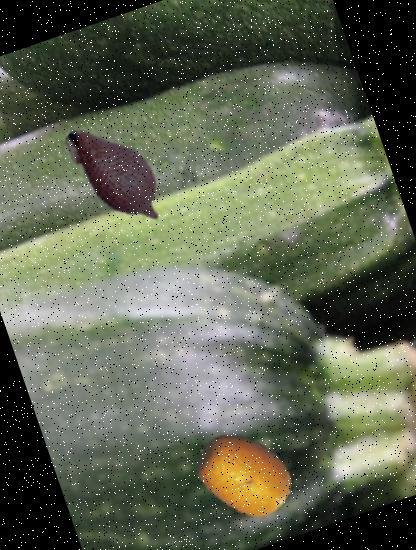Kumquats: (181, 412, 308, 538)
Salak: (38, 94, 197, 253)
